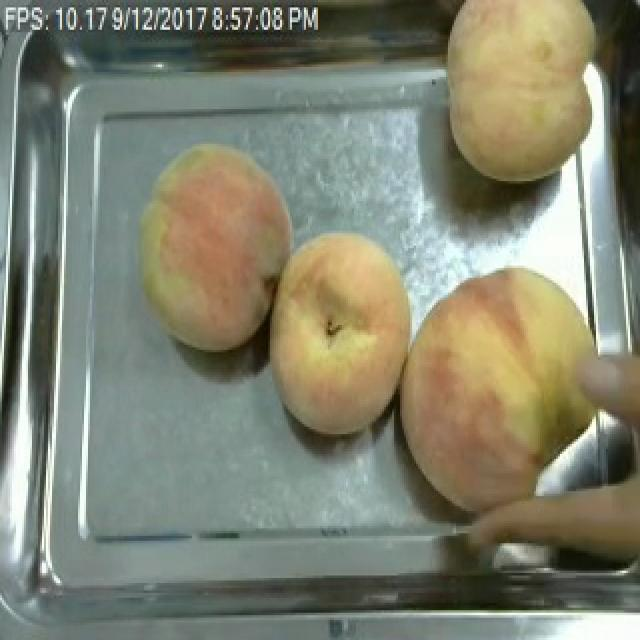Fruit: (386, 258, 602, 518), (128, 139, 304, 360), (258, 223, 422, 442), (432, 0, 614, 191)
